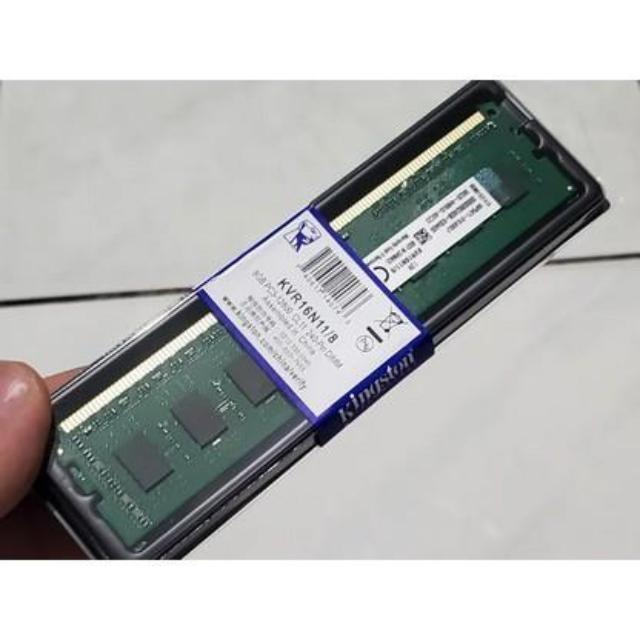RAM: (46, 87, 584, 558)
